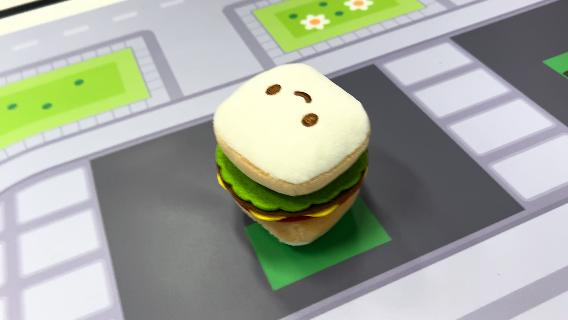sandwich: (210, 61, 374, 247)
